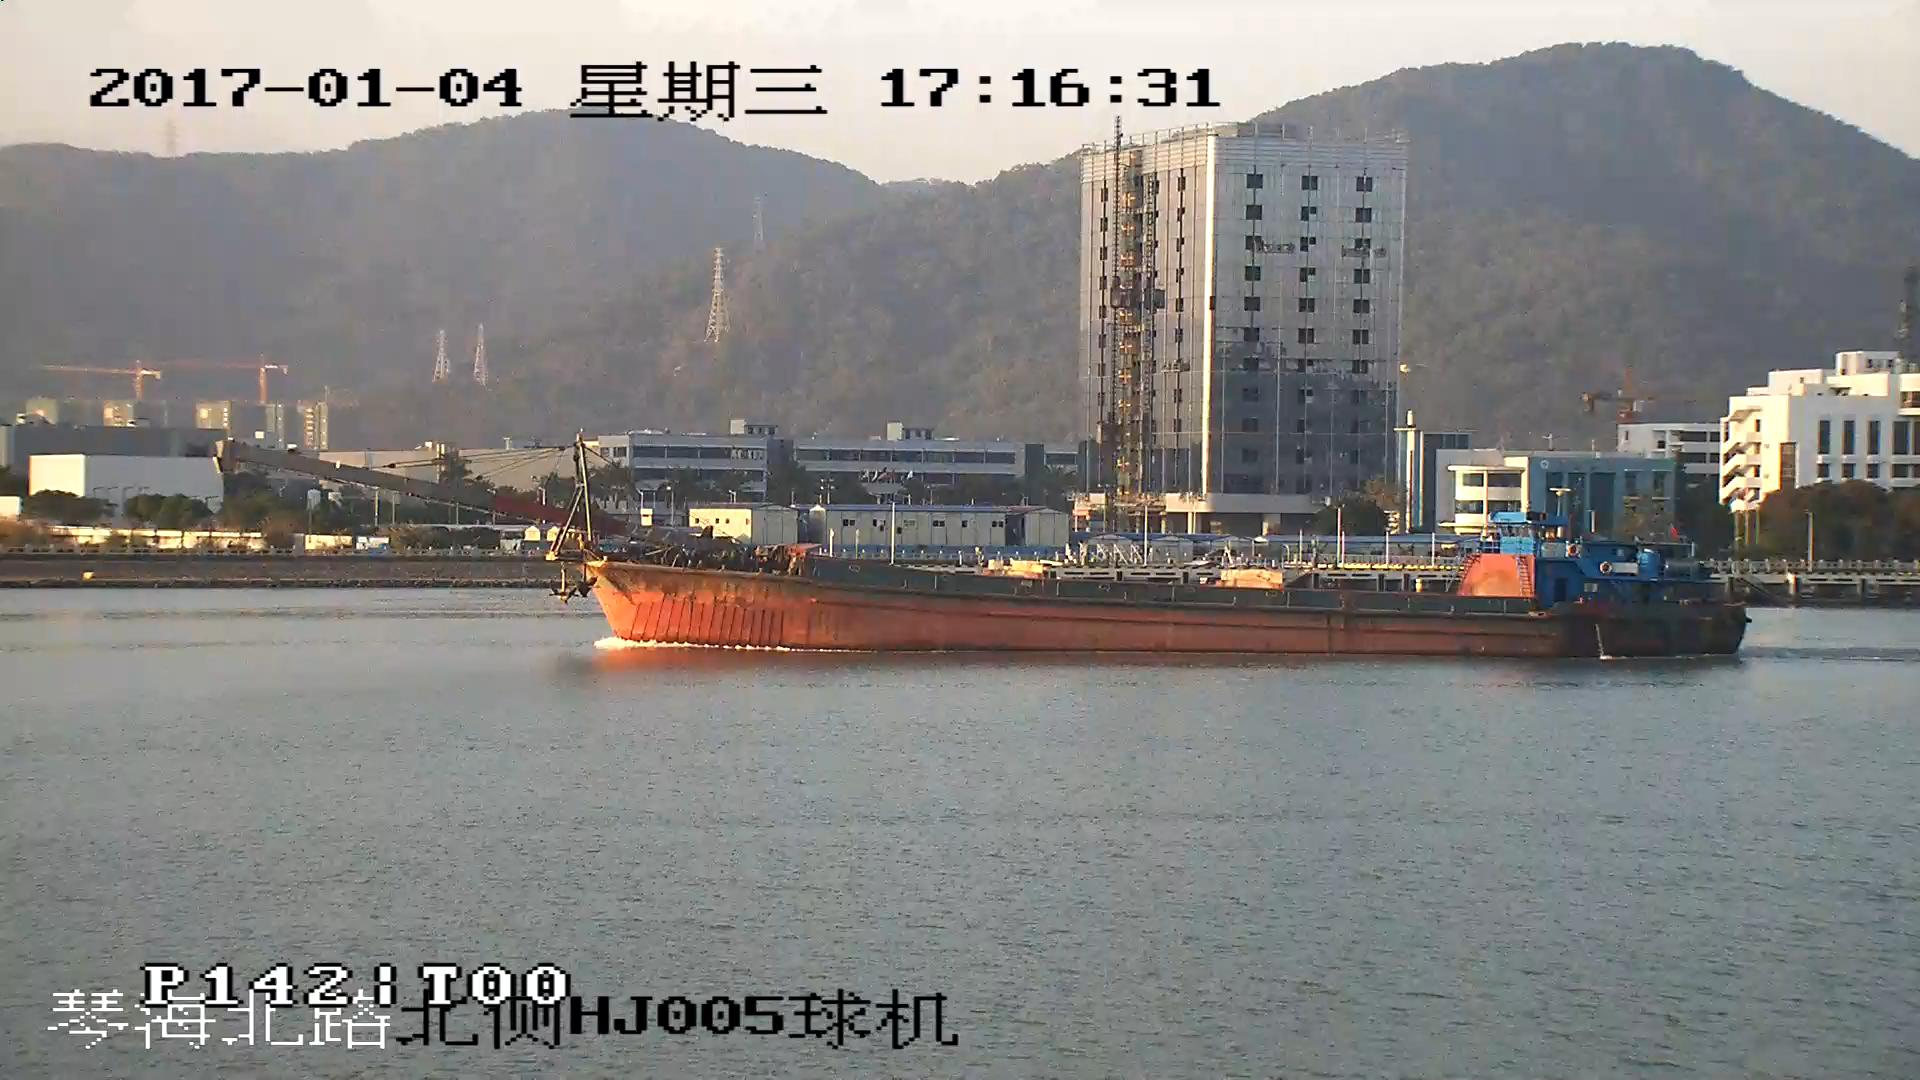bulk cargo carrier: (222, 435, 1746, 662)
